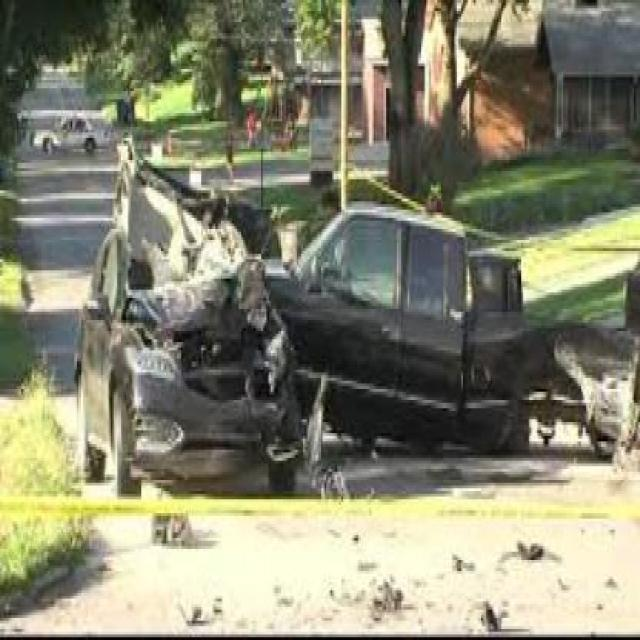accident: (70, 143, 638, 530)
